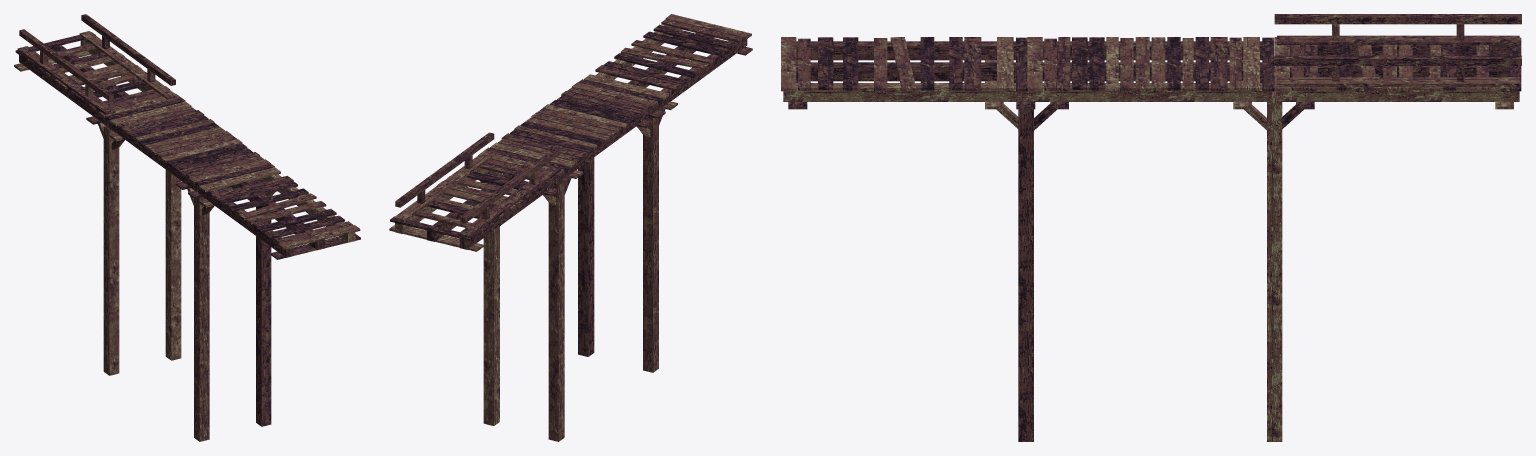
The model's file is PonteMaisFeiaDoMundo 1.fbx.
3 views of the same model, side by side, from view 1: azimuth 30°, elevation 25°; view 2: azimuth 150°, elevation 25°; view 3: azimuth 270°, elevation 25° (orthographic). The views are drawn at different scales.
Visible parts, largest first — view 1: Wooden_bridge-material.064, Wooden_bridge-material.063, Wooden_bridge-material.065, Wooden_bridge-material.061, Wooden_bridge-material.057; view 2: Wooden_bridge-material.064, Wooden_bridge-material.065, Wooden_bridge-material.063, Wooden_bridge-material.061, Wooden_bridge-material.057; view 3: Wooden_bridge-material.064, Wooden_bridge-material.065, Wooden_bridge-material.063, Wooden_bridge-material.061, Wooden_bridge-material.057.
Part boxes in pixels (x1,y1,x2,y2): Wooden_bridge-material.064: (14, 14, 180, 126); Wooden_bridge-material.063: (194, 163, 360, 259); Wooden_bridge-material.065: (105, 97, 270, 191); Wooden_bridge-material.061: (103, 126, 181, 375); Wooden_bridge-material.057: (194, 197, 271, 441); Wooden_bridge-material.064: (389, 132, 564, 251); Wooden_bridge-material.065: (484, 82, 657, 181); Wooden_bridge-material.063: (578, 14, 752, 112); Wooden_bridge-material.061: (483, 170, 564, 441); Wooden_bridge-material.057: (578, 116, 658, 372); Wooden_bridge-material.064: (1274, 14, 1521, 109); Wooden_bridge-material.065: (1027, 37, 1274, 109); Wooden_bridge-material.063: (781, 37, 1027, 109); Wooden_bridge-material.061: (1267, 56, 1282, 441); Wooden_bridge-material.057: (1018, 109, 1033, 441).
Size of the model in its own units: 428 by 1353 by 2381.
3 materials, 3 textured.
